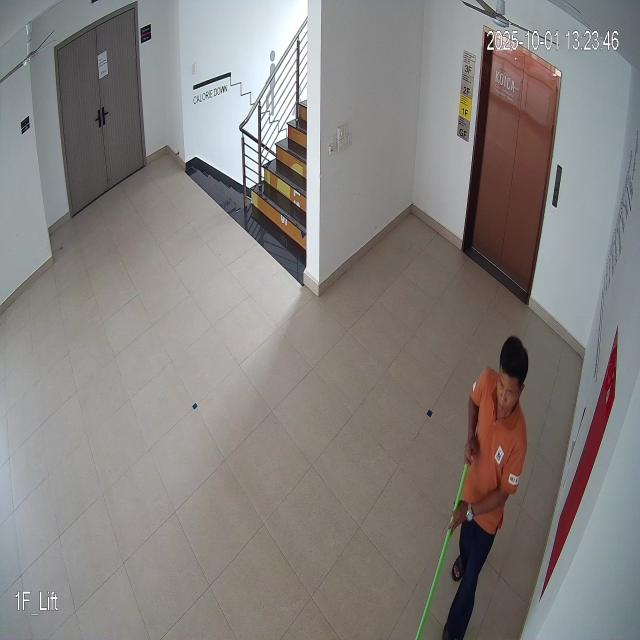face: (490, 326, 532, 431)
